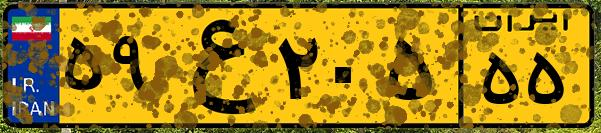0: (330, 28, 385, 110)
2: (270, 28, 330, 110)
5: (385, 28, 445, 110), (57, 26, 110, 100), (475, 38, 525, 113), (525, 38, 570, 115)
9: (110, 28, 158, 98)
ع: (158, 12, 270, 120)
